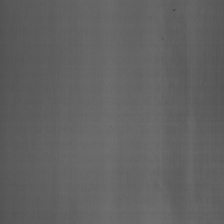inclusion: (170, 0, 178, 16), (158, 28, 165, 46)
